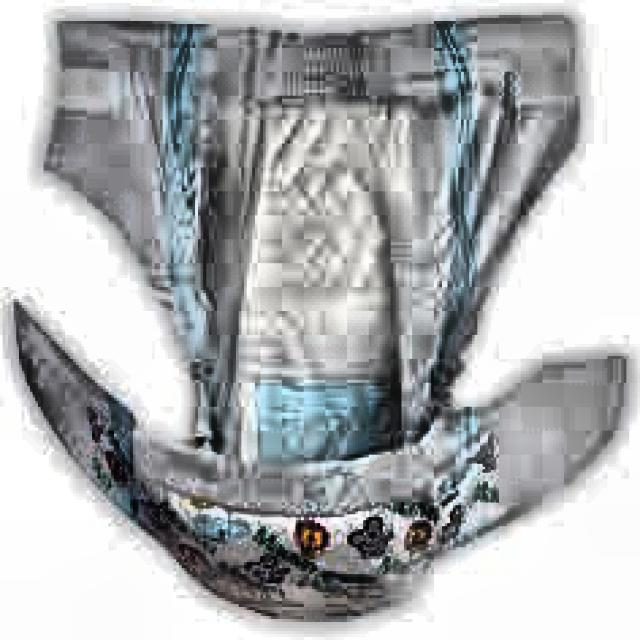trash: (11, 7, 640, 621)
